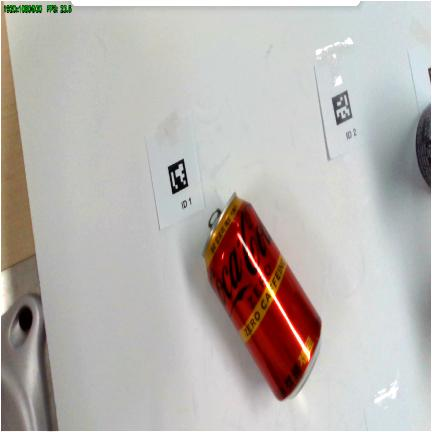can_coke_decaf: (203, 193, 321, 400)
